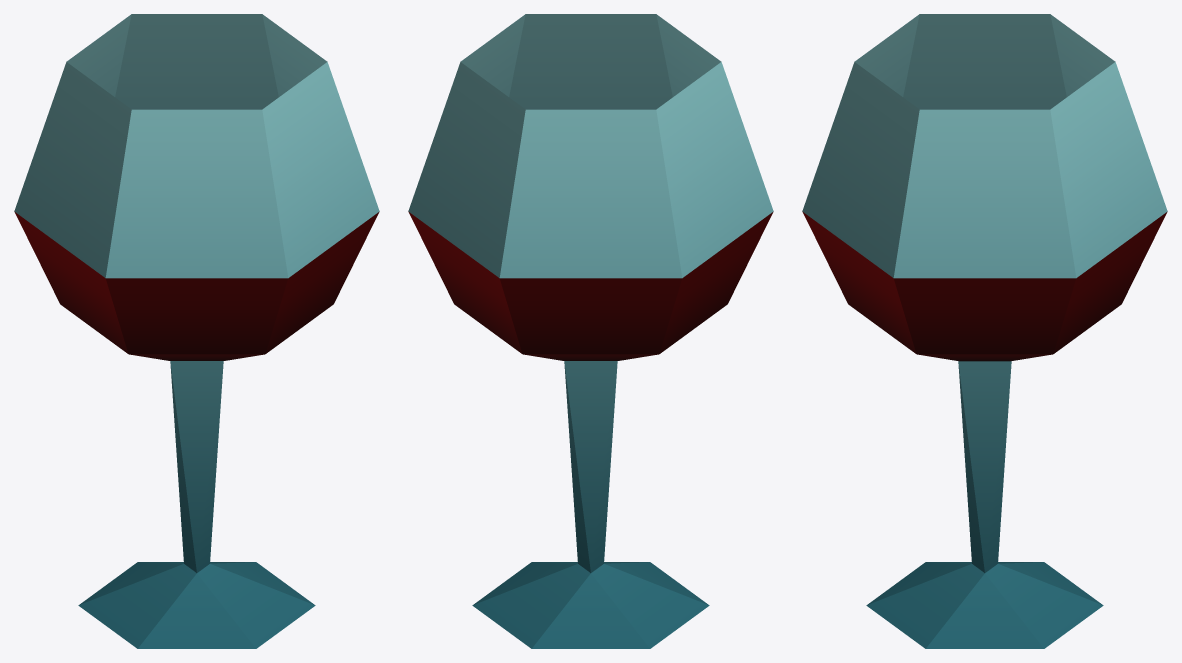
Rendered from Mini_Object_002.fbx.
3 views of the same model, side by side, from view 1: azimuth 30°, elevation 25°; view 2: azimuth 150°, elevation 25°; view 3: azimuth 270°, elevation 25° (orthographic).
Parts seen in each view (by area): view 1: Mini_Object_002; view 2: Mini_Object_002; view 3: Mini_Object_002.
Part boxes in pixels (x1,y1,x2,y2): Mini_Object_002: [14, 14, 379, 648]; Mini_Object_002: [408, 14, 773, 648]; Mini_Object_002: [802, 14, 1167, 648].
Size of the model in its own units: 9.86 by 18.7 by 11.39.
